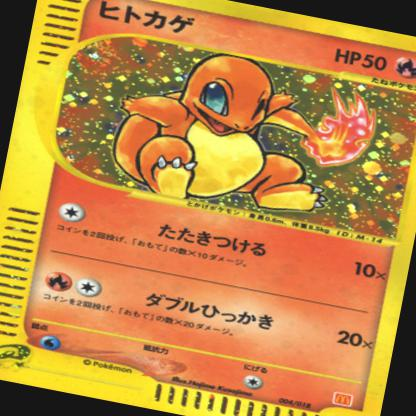Charmander: (105, 38, 350, 226)
